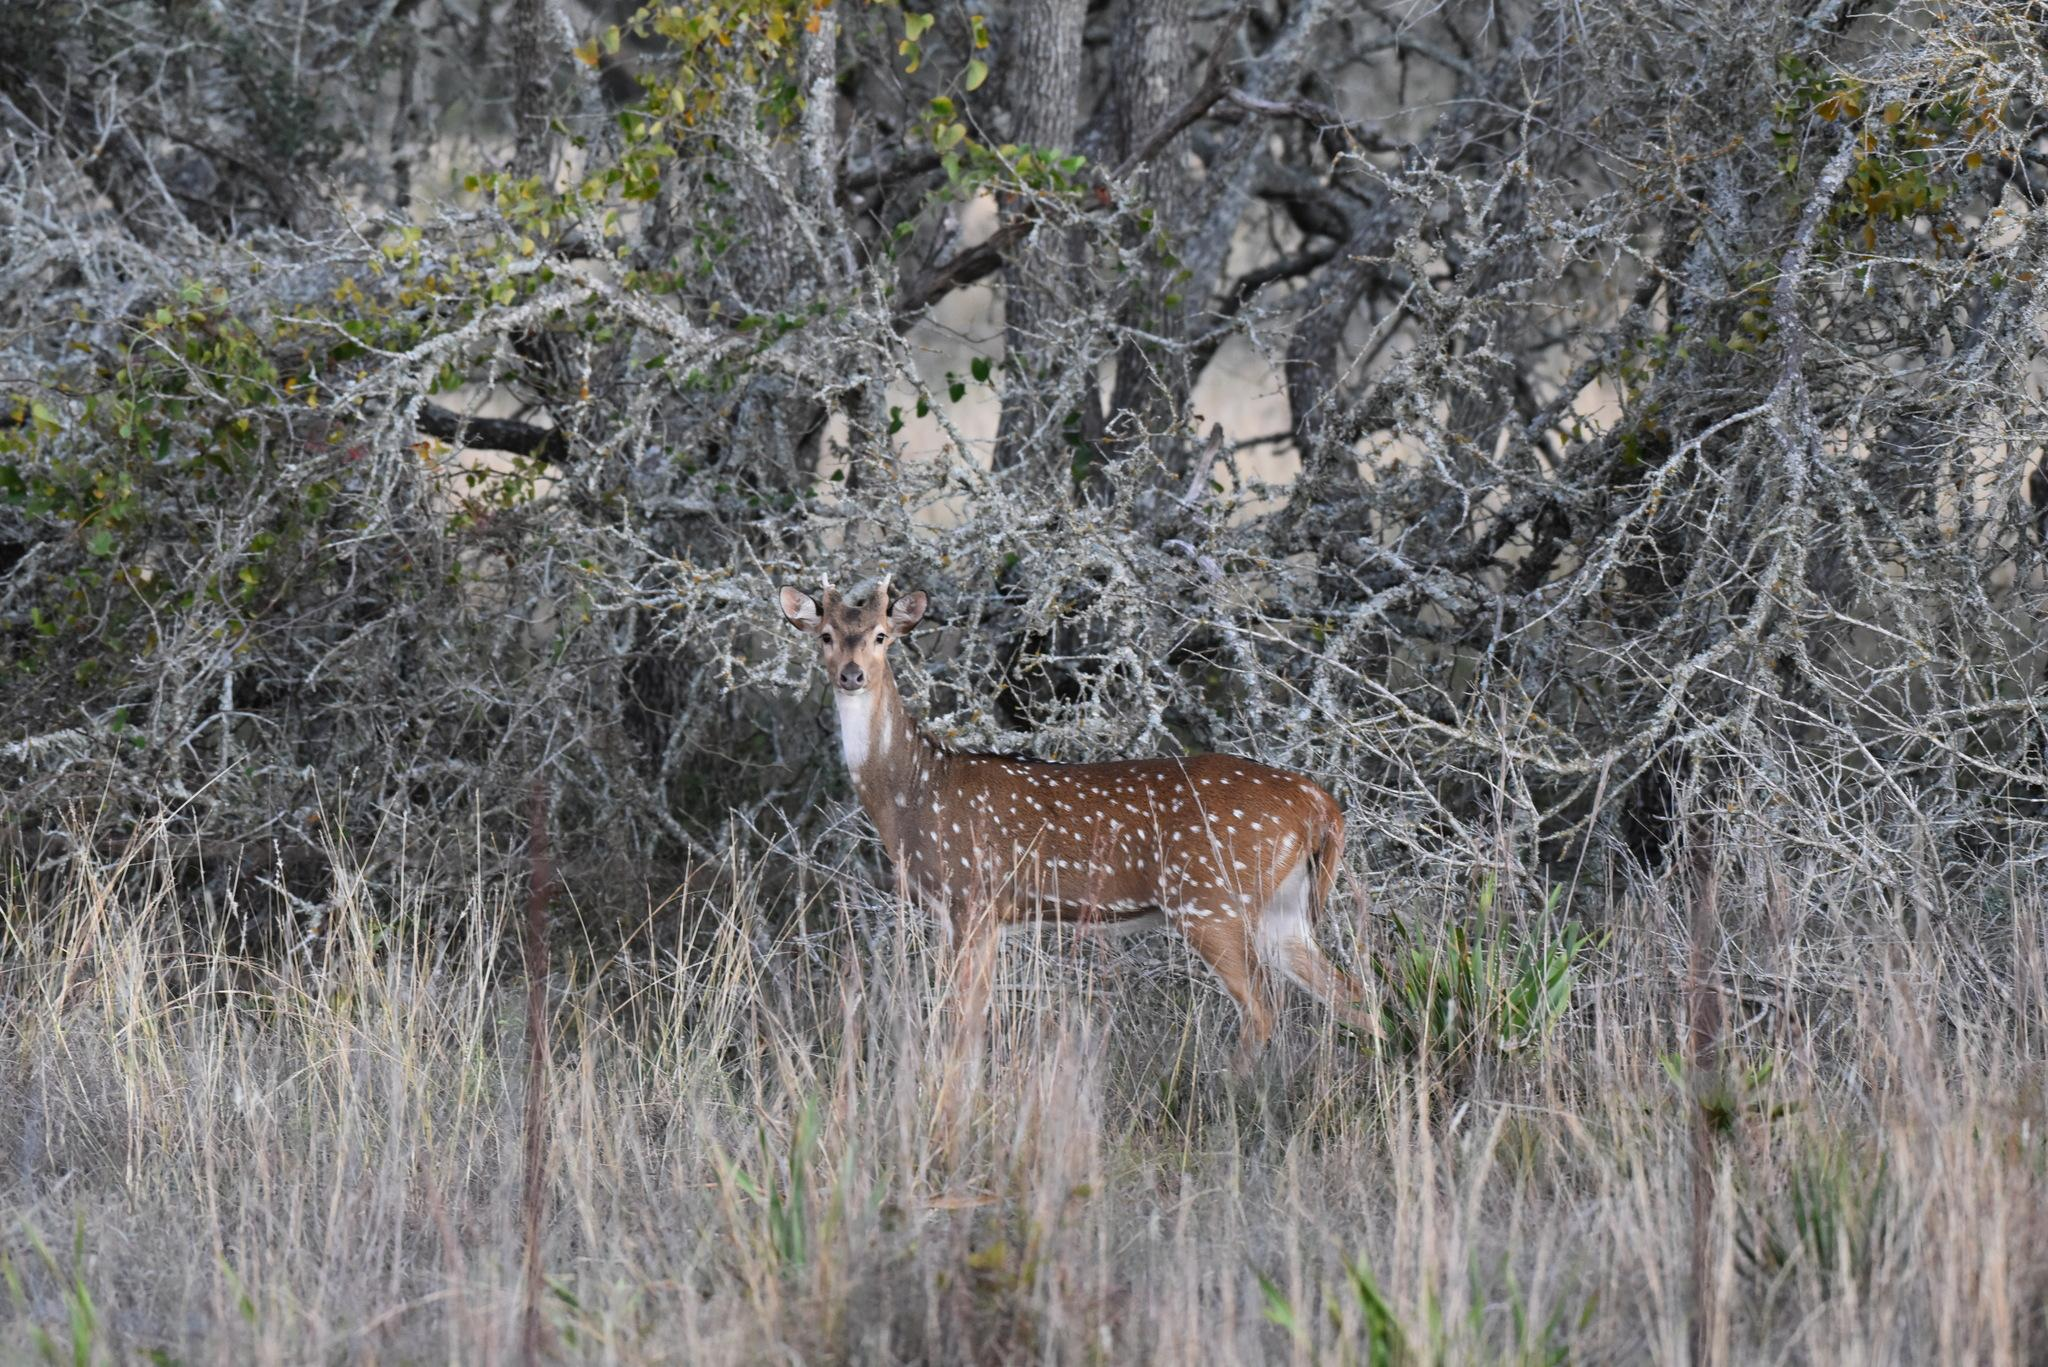Deer: (779, 581, 1375, 1044)
